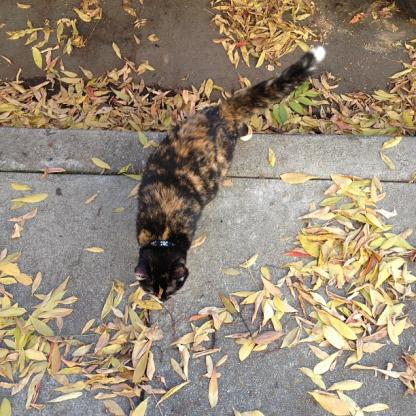Target: (131, 43, 331, 305)
